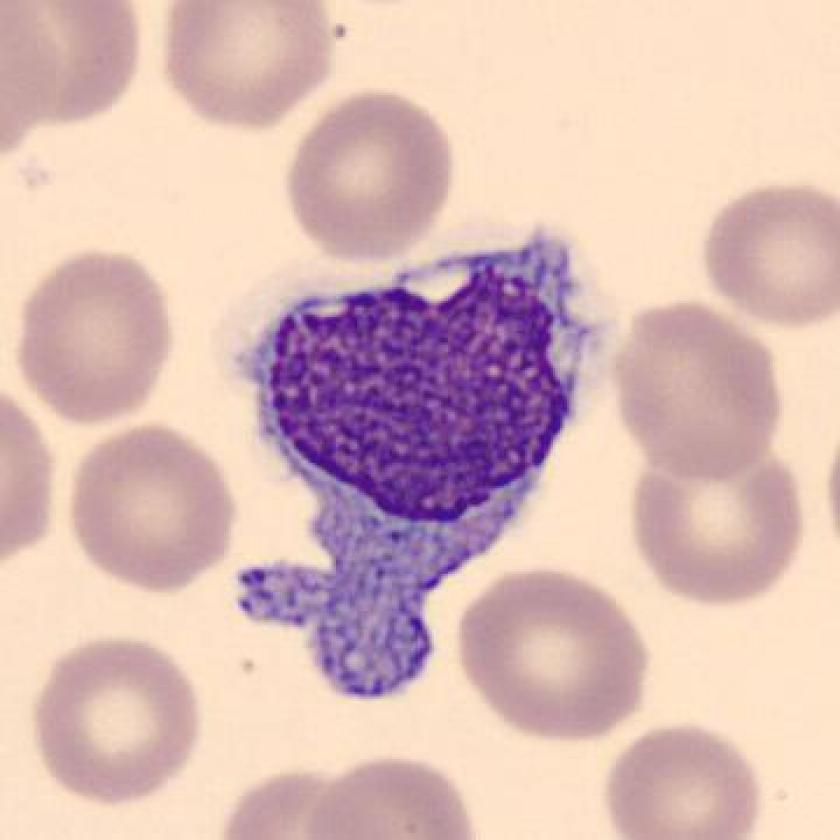monocyte: (209, 214, 629, 718)
